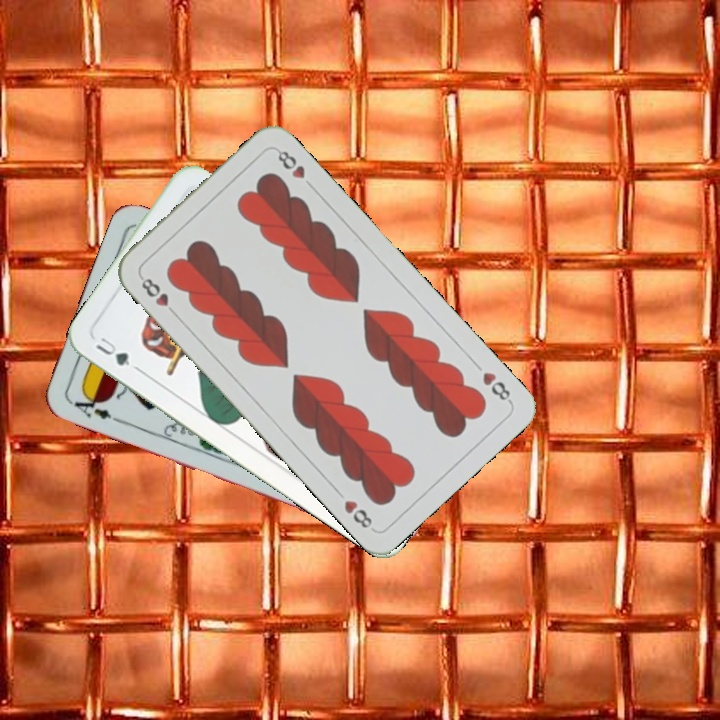EA: (66, 389, 114, 422)
GU: (91, 331, 133, 369)
H8: (136, 273, 181, 319), (478, 368, 515, 406)
